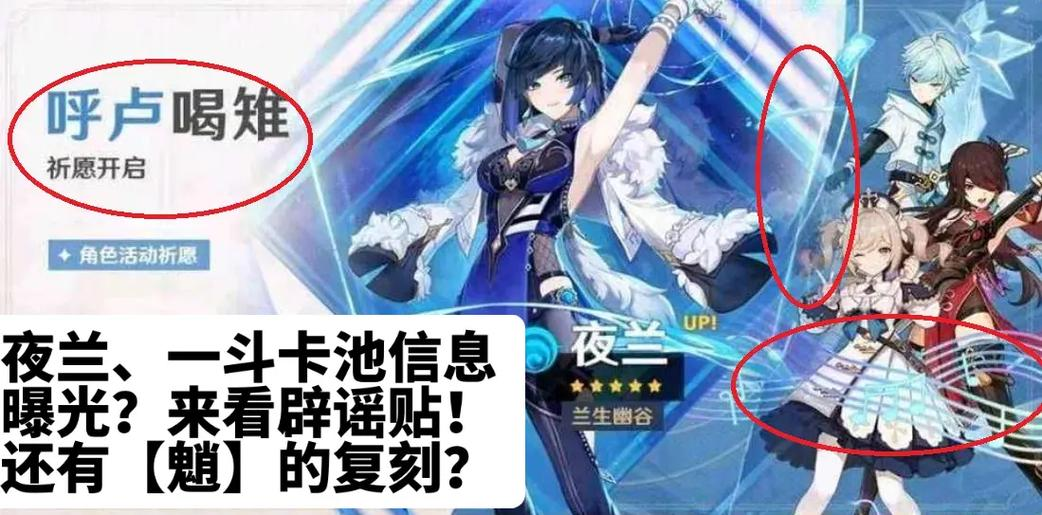夜兰: (425, 1, 727, 515)
